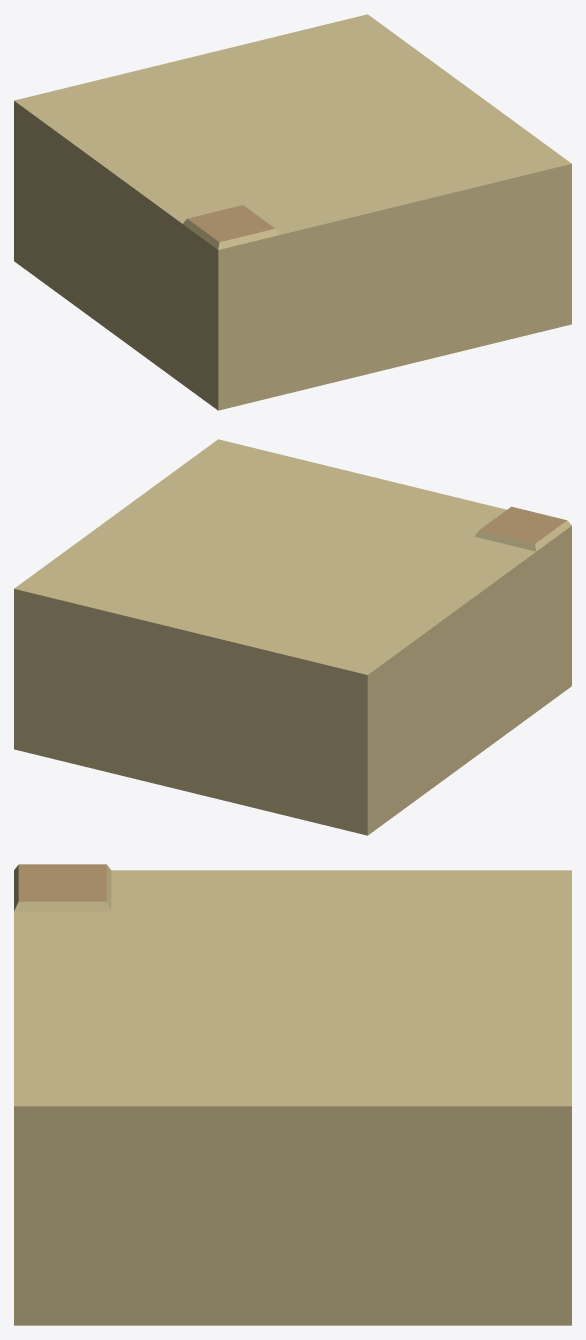
File: Piso-Rio-2.FBX
3 views of the same model, one above another, from view 1: azimuth 30°, elevation 25°; view 2: azimuth 150°, elevation 25°; view 3: azimuth 270°, elevation 25° (orthographic). The views are drawn at different scales.
Visible parts, largest first — view 1: Piso-Rio-2; view 2: Piso-Rio-2; view 3: Piso-Rio-2.
Boxes of the visible parts, box(x1,y1,x2,y2) form: Piso-Rio-2: box(14, 14, 571, 410); Piso-Rio-2: box(14, 439, 571, 835); Piso-Rio-2: box(14, 864, 571, 1325).
Bounding box in the file's own units: 200 × 89.92 × 200.
1 material, 1 textured.
